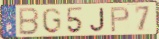5: (66, 6, 84, 35)
7: (134, 5, 151, 33)
B: (18, 7, 40, 37)
G: (41, 7, 63, 35)
J: (89, 7, 106, 33)
P: (110, 6, 131, 34)
